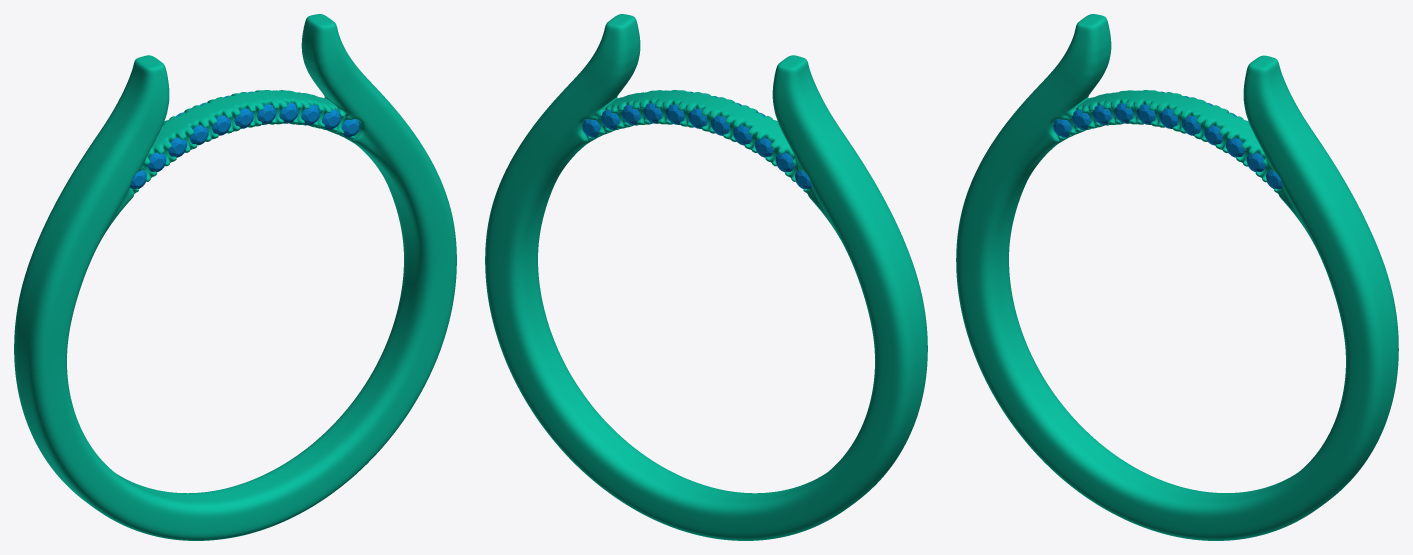
File: 1771684051072_diamond-arch-02.glb
3 renders of one model, left to right at view 1: azimuth 30°, elevation 25°; view 2: azimuth 150°, elevation 25°; view 3: azimuth 330°, elevation 25°, orthographic.
Parts seen in each view (by area): view 1: COLOR= MATERIAL=; view 2: COLOR= MATERIAL=; view 3: COLOR= MATERIAL=.
Part boxes in pixels (box(x1,y1,x2,y2)): COLOR= MATERIAL=: box(14, 14, 456, 540); COLOR= MATERIAL=: box(485, 14, 927, 540); COLOR= MATERIAL=: box(956, 14, 1398, 540).
Bounding box in the file's own units: 2.69 × 2.95 × 0.3023.
